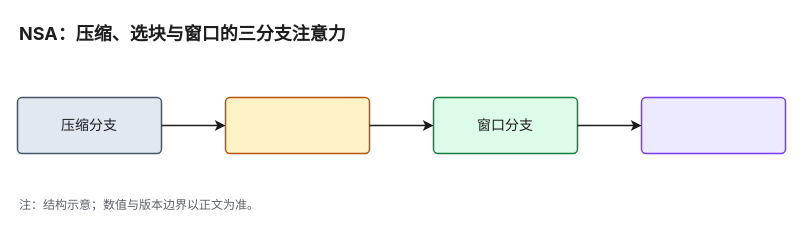
This 804x234 diagram has some shape labels left out. The shapes that lost their labels are listed below. From the top down, each one's centre as x and y in pixels, then its label:
At (297,125): "选块分支".
At (713,125): "门控融合".
